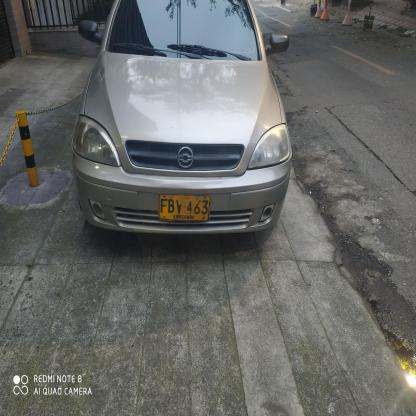placa: (155, 190, 213, 224)
